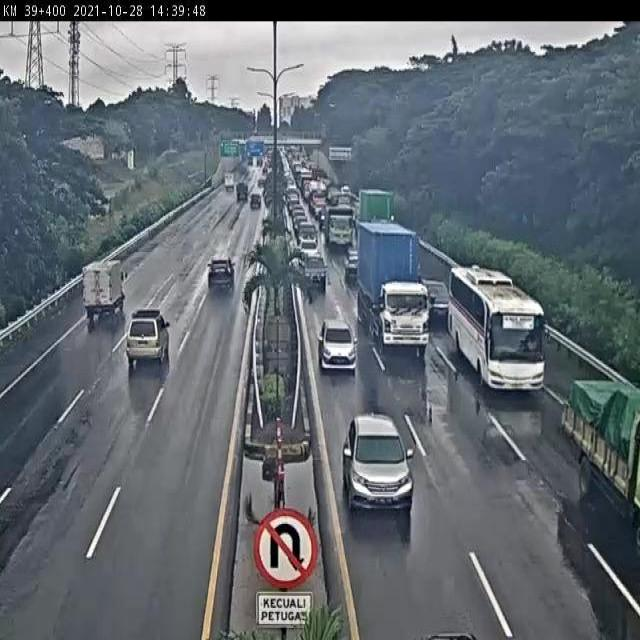big bus: (444, 253, 540, 395)
big truck: (355, 218, 423, 346)
car: (340, 412, 418, 509), (125, 311, 171, 364), (316, 313, 356, 372), (417, 267, 448, 317), (300, 250, 331, 298), (206, 252, 237, 289), (295, 222, 320, 254), (342, 243, 359, 280)
small truck: (81, 256, 132, 320)
truck-m-: (563, 368, 640, 547)
